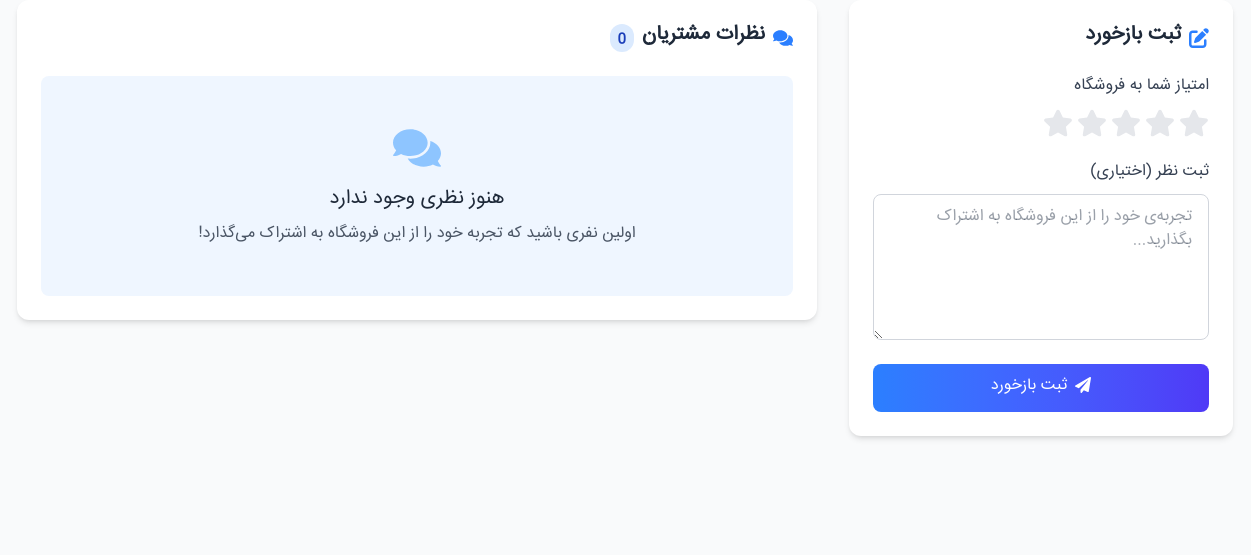
Test: StoreComment and StoreFullComment › shows error when submitting empty feedback
This screenshot has width=1251, height=555.
Step 1. Click the button "ثبت بازخورد" → (1041, 388), box [873,364,1209,412]
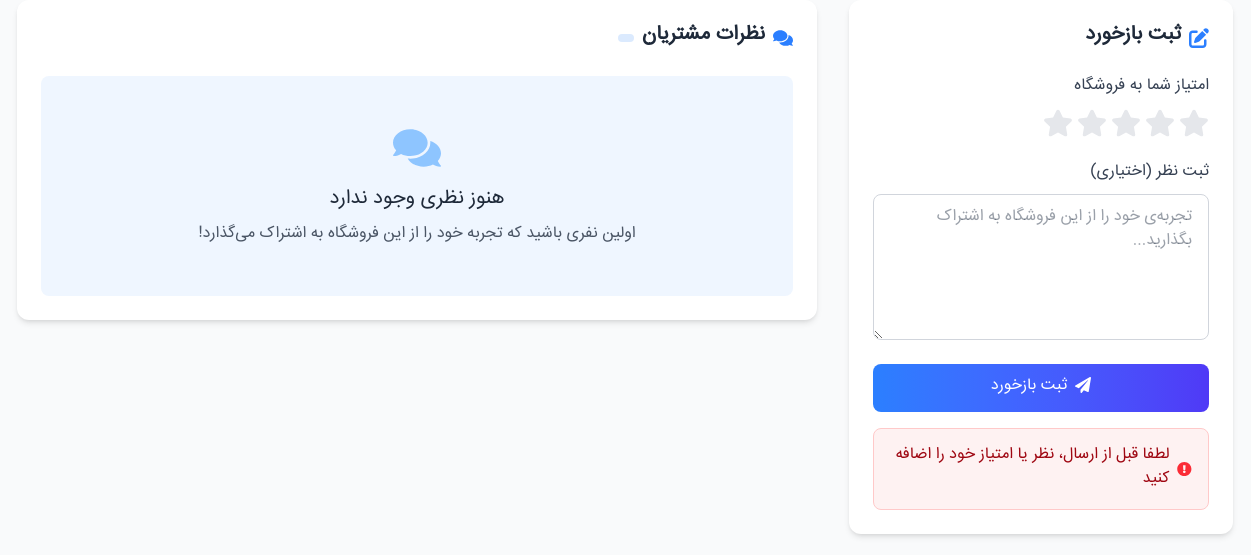
Now the text "لطفا قبل از ارسال، نظر یا امتیاز خود را اضافه کنید" is shown, box [890,445,1169,493]
